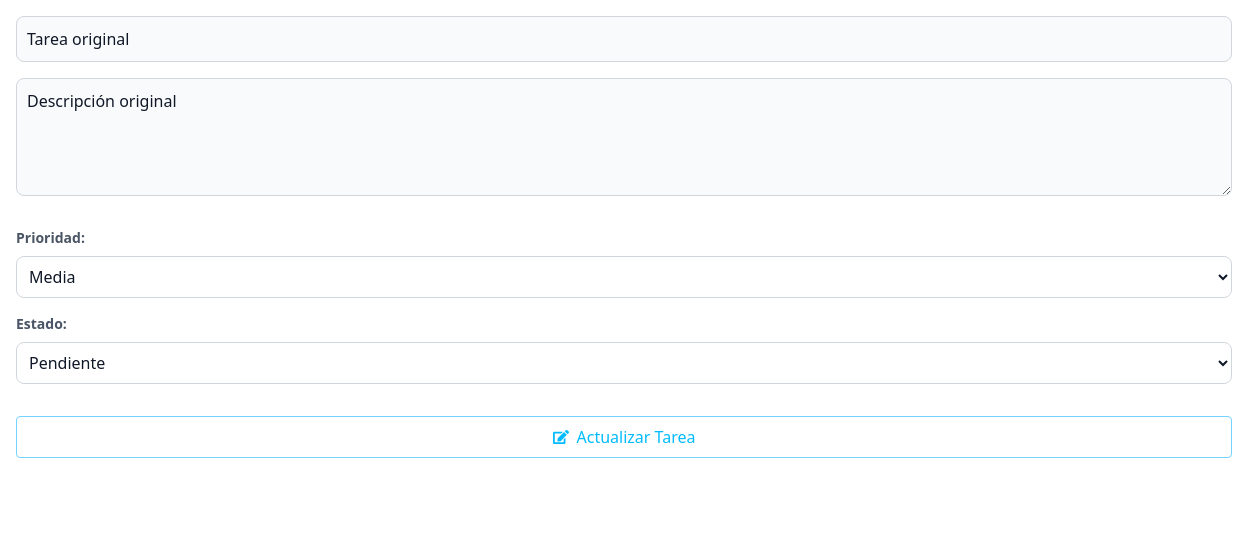
EditTaskForm Component › shows validation errors for invalid title and description
This screenshot has width=1249, height=539.
Replace the text in the field with placeholder "Nuevo título" with "a". click: (624, 39)
box: [16,16,1232,62]
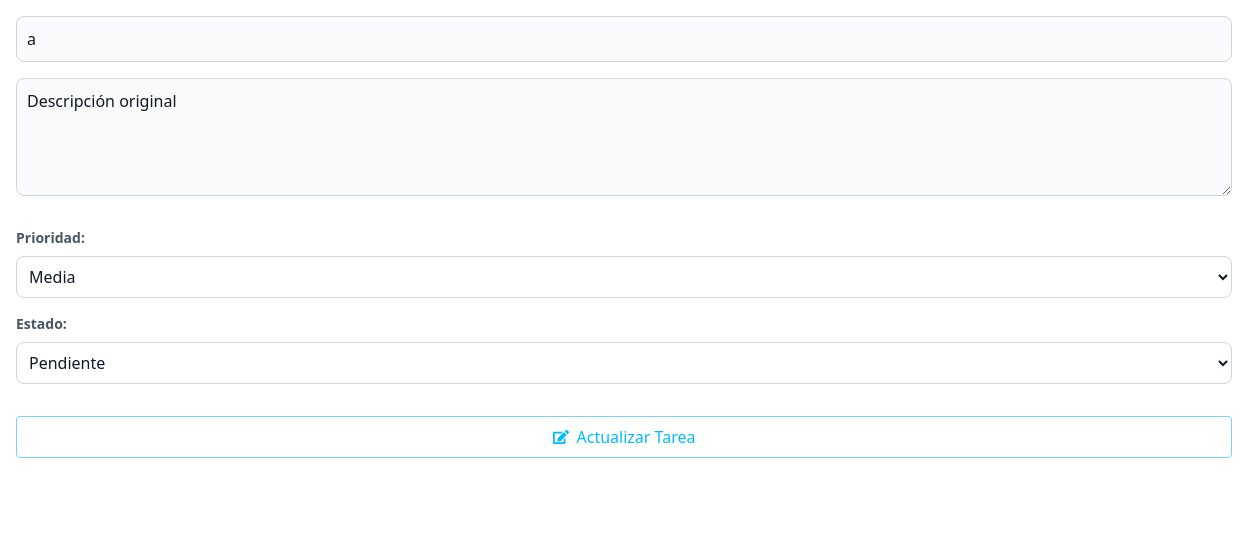
Replace the text in the text box with placeholder "Nueva descripción" with "1234". click: (624, 137)
box: [16,78,1232,196]
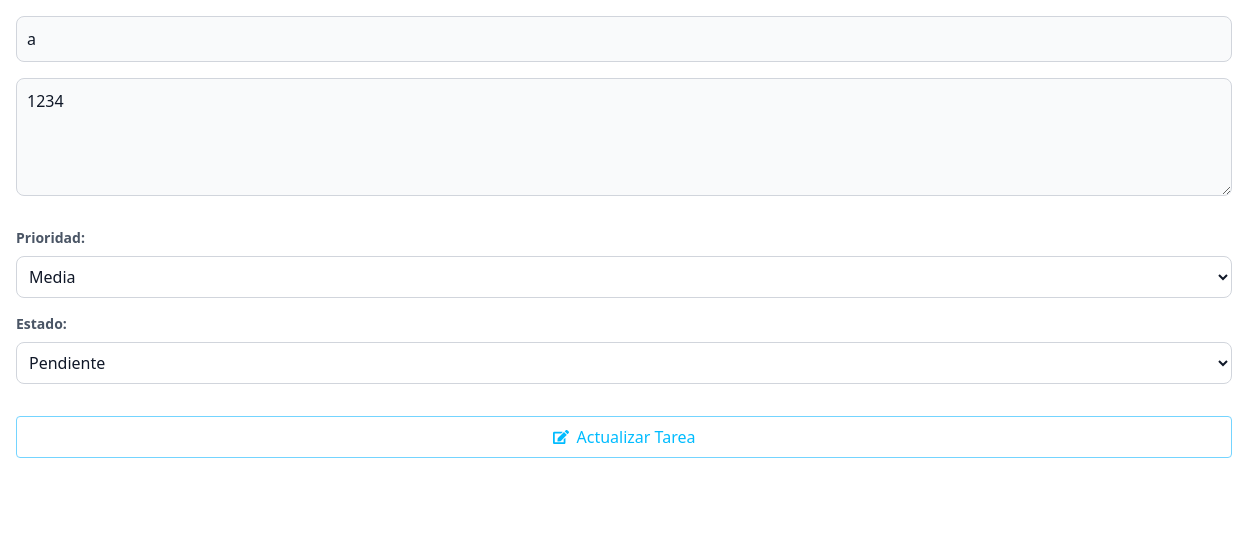
Submit the form from the button "Actualizar Tarea", box [16,416,1232,458]
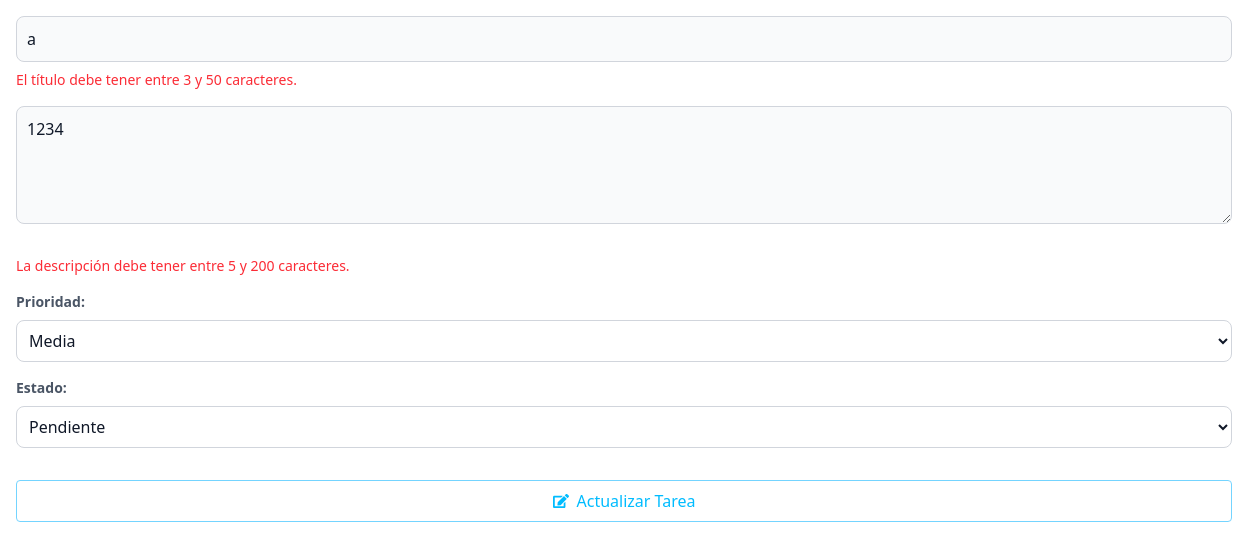
expect the text "El título debe tener entre 3 y 50 caracteres." is shown: met, box [16,70,297,89]
expect the text "La descripción debe tener entre 5 y 200 caracteres." is shown: met, box [16,256,350,275]
